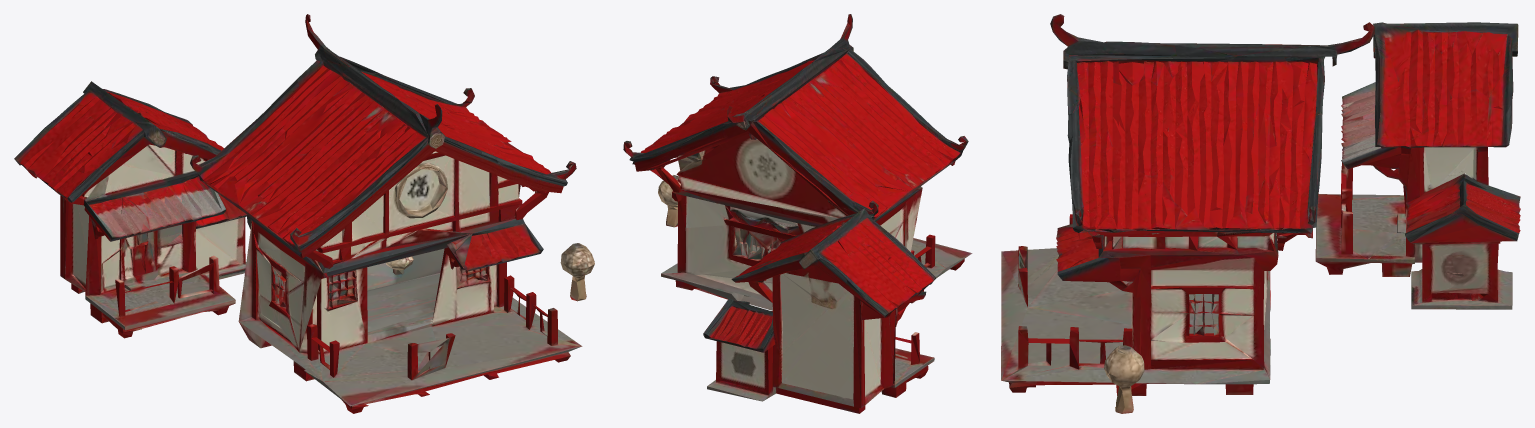
Rendered from house_town.glb.
3 renders of one model, left to right at view 1: azimuth 30°, elevation 25°; view 2: azimuth 150°, elevation 25°; view 3: azimuth 270°, elevation 25°, orthographic. The views are drawn at different scales.
Bounding box in the file's own units: 1.9 × 1.18 × 1.75.
1 material, 1 textured.
